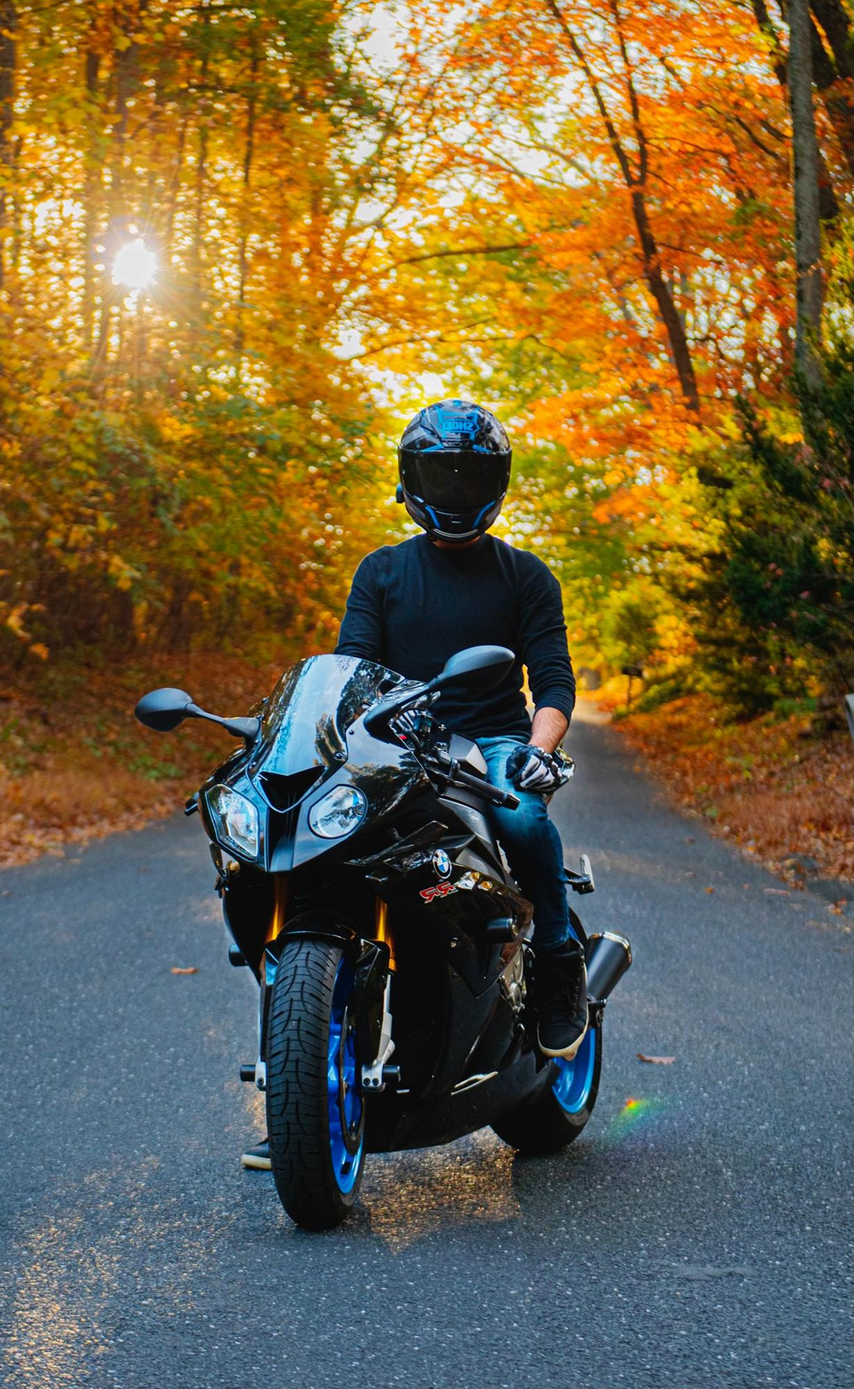helmet: (394, 398, 513, 546)
